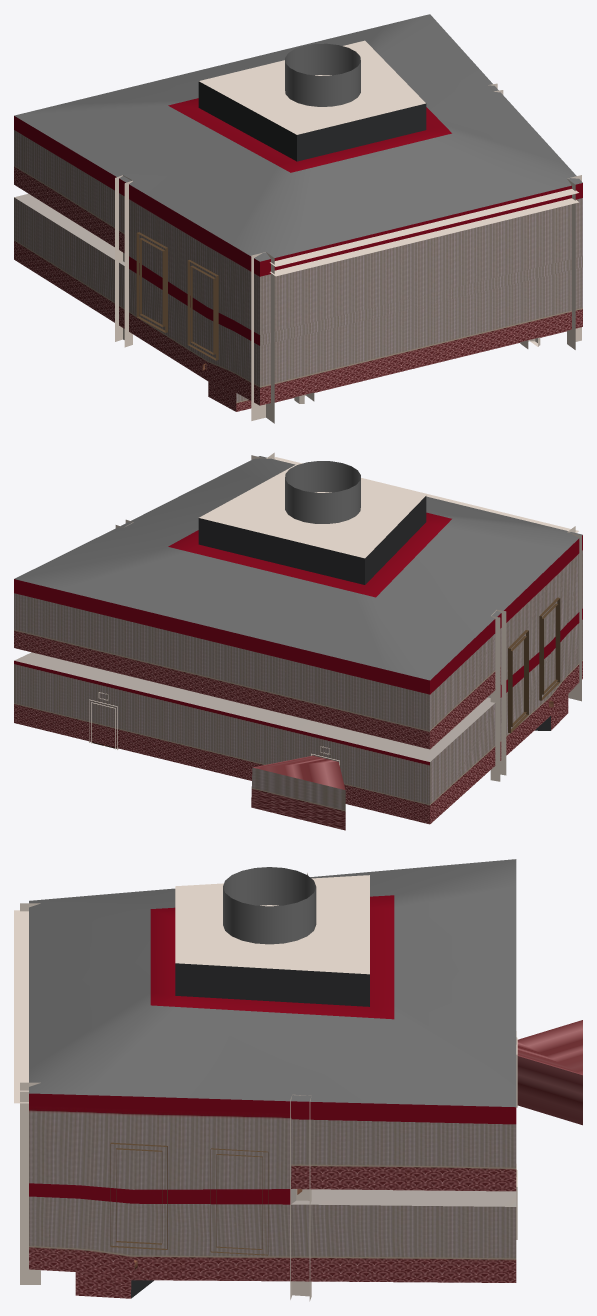
The model's file is viola_desmond_the_roseland_theatre.glb.
3 renders of one model, top to bottom at view 1: azimuth 30°, elevation 25°; view 2: azimuth 150°, elevation 25°; view 3: azimuth 270°, elevation 25°, orthographic. The views are drawn at different scales.
Parts seen in each view (by area): view 1: Object_2, Object_5; view 2: Object_2, Object_5, Object_4; view 3: Object_2, Object_5, Object_4.
Boxes of the visible parts, x1=… form: Object_2: x1=14, y1=14, x2=582, y2=405; Object_5: x1=115, y1=83, x2=581, y2=423; Object_2: x1=14, y1=456, x2=582, y2=824; Object_5: x1=89, y1=452, x2=581, y2=781; Object_4: x1=251, y1=755, x2=345, y2=830; Object_2: x1=29, y1=859, x2=516, y2=1282; Object_5: x1=14, y1=873, x2=517, y2=1301; Object_4: x1=517, y1=1020, x2=582, y2=1125.
Bounding box in the file's own units: 3001 × 1748 × 2908.
Materials: 1 (1 with a texture image).
